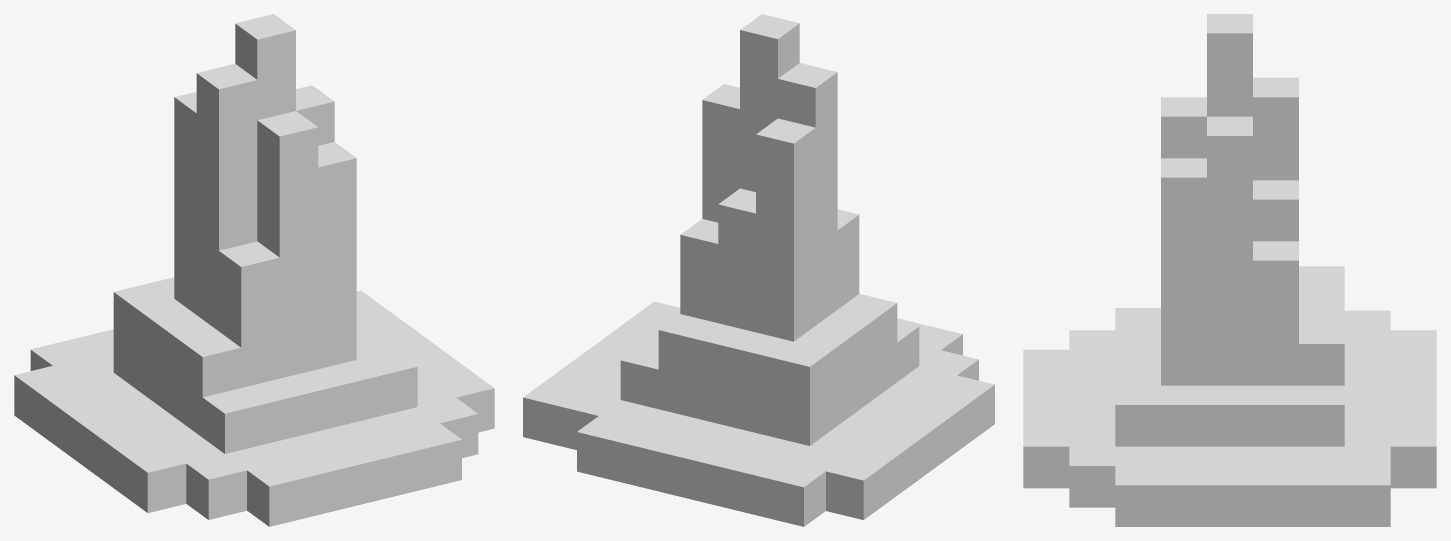
File: Hat.obj
3 views of the same model, side by side, from view 1: azimuth 30°, elevation 25°; view 2: azimuth 150°, elevation 25°; view 3: azimuth 270°, elevation 25° (orthographic). The views are drawn at different scales.
Visible parts, largest first — view 1: Hat; view 2: Hat; view 3: Hat.
Boxes of the visible parts, x1,y1,x2,y2 form: Hat: (14,14,494,526); Hat: (523,14,994,526); Hat: (1023,14,1436,526).
Bounding box in the file's own units: 9 × 10 × 9.
1 material, 1 textured.
